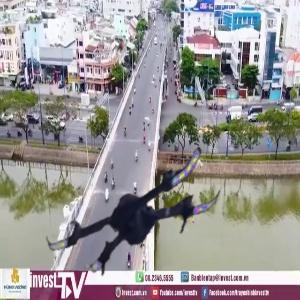drone: (42, 113, 220, 291)
